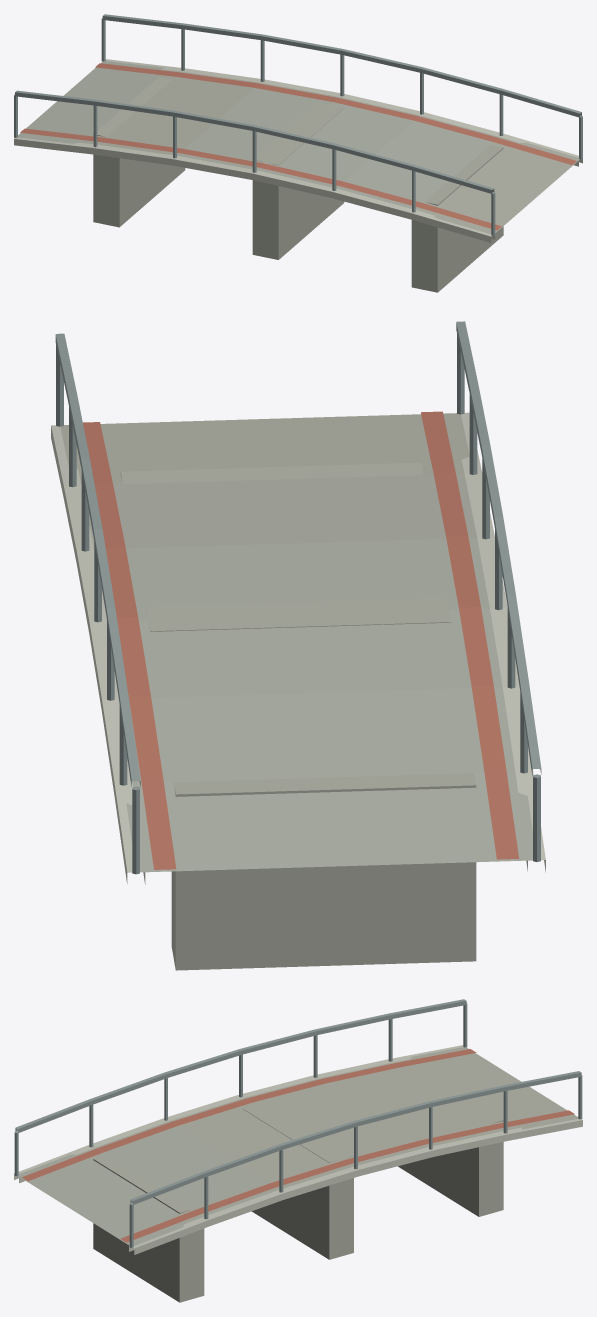
Rendered from infra-lake-bridge-833506388.glb.
3 renders of one model, top to bottom at view 1: azimuth 30°, elevation 25°; view 2: azimuth 150°, elevation 25°; view 3: azimuth 270°, elevation 25°, orthographic. The views are drawn at different scales.
Parts seen in each view (by area): view 1: infra-lake-bridge-833506388; view 2: infra-lake-bridge-833506388; view 3: infra-lake-bridge-833506388.
Part boxes in pixels (left/top/right/bottom): infra-lake-bridge-833506388: left=14, top=14, right=582, bottom=292; infra-lake-bridge-833506388: left=51, top=321, right=545, bottom=970; infra-lake-bridge-833506388: left=14, top=999, right=582, bottom=1302.
Bounding box in the file's own units: 10.56 × 3.48 × 12.48.
